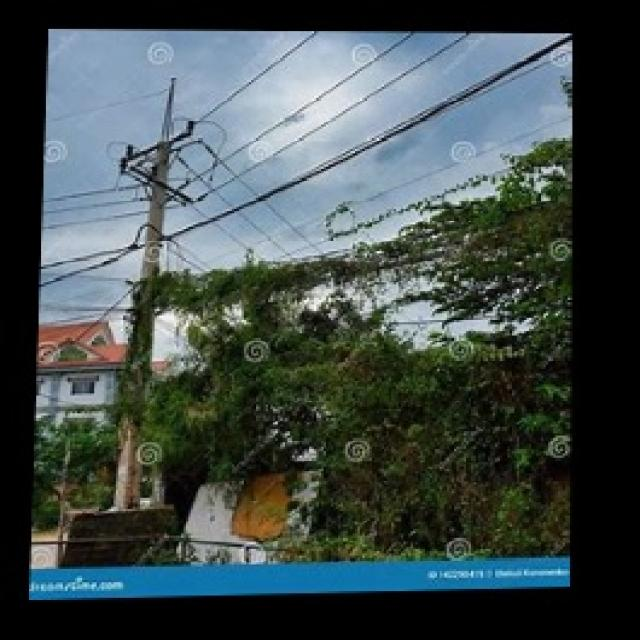critical vegetation: (145, 244, 570, 336)
